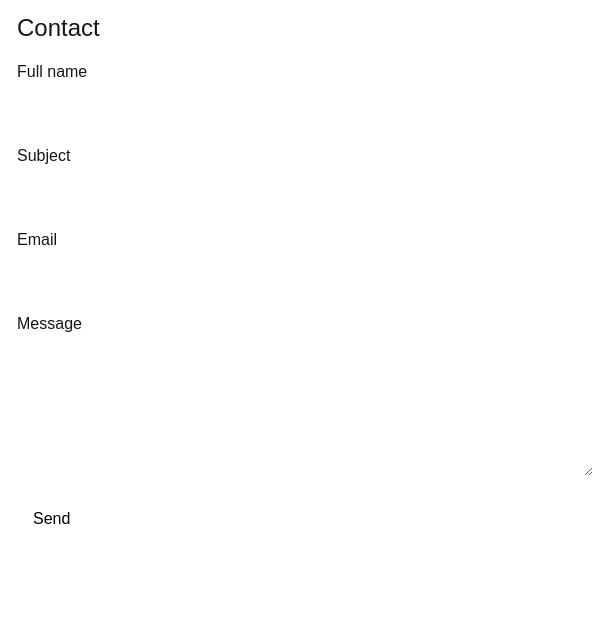
Test: Contact form validation › viser feilmeldinger for ugyldige felt
This screenshot has width=611, height=637.
Click the button "Send".
click(52, 519)  # box left=17, top=499, right=86, bottom=539
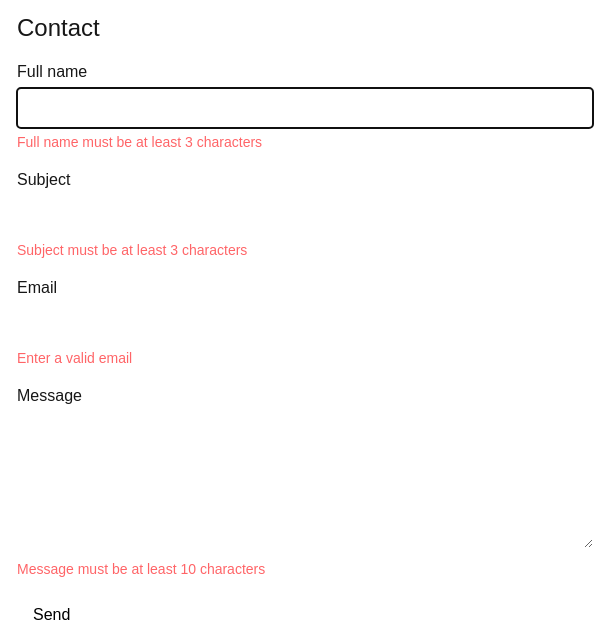
Check: the text "Full name must be at least 3 characters" is shown, box left=17, top=134, right=262, bottom=150
Check: the text "Subject must be at least 3 characters" is shown, box left=17, top=242, right=247, bottom=258
Check: the text "Enter a valid email" is shown, box left=17, top=350, right=132, bottom=366
